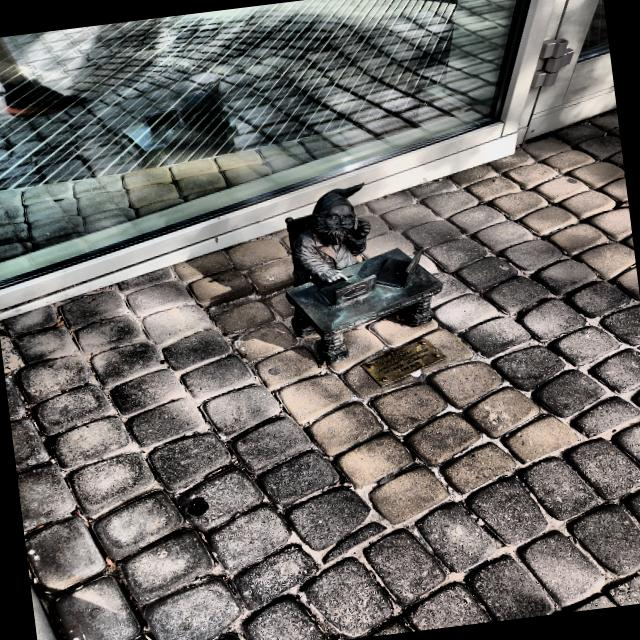WIZek: (286, 184, 442, 363)
